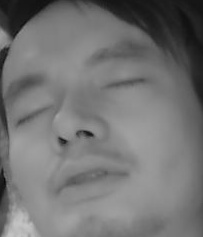blink: (17, 101, 54, 127), (102, 72, 142, 93)
mouth: (48, 153, 125, 205)
